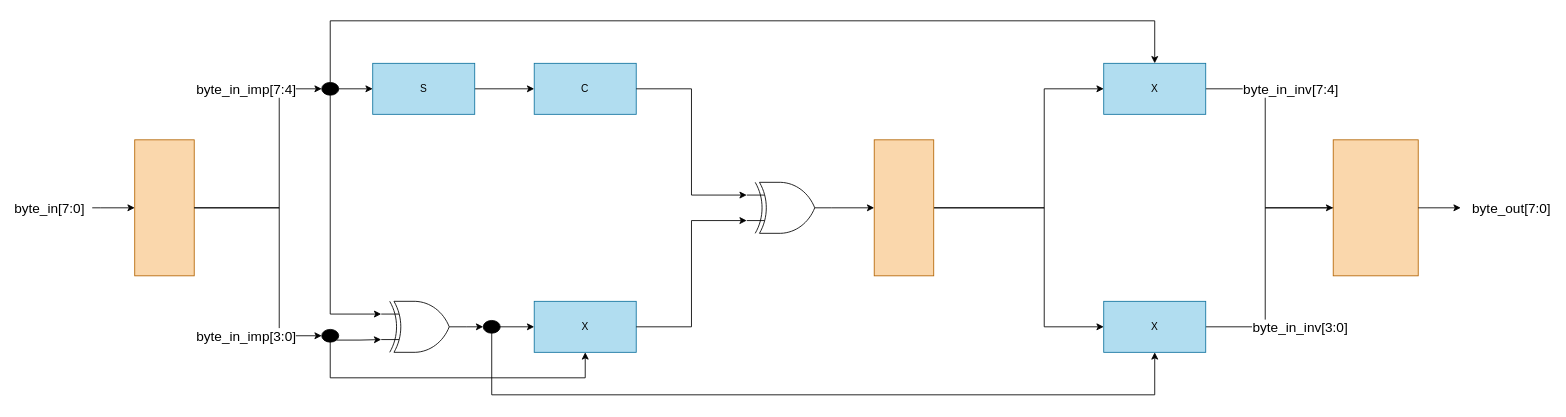
The diagram is 1566 pixels wide and 417 high, and some of its shapes have lost their labels. The centre of each missing label's shape, as x and y in pixels:
"Imp" goes at point 164,207.
"ImpInv" goes at point 1375,207.
"Inv" goes at point 903,207.
